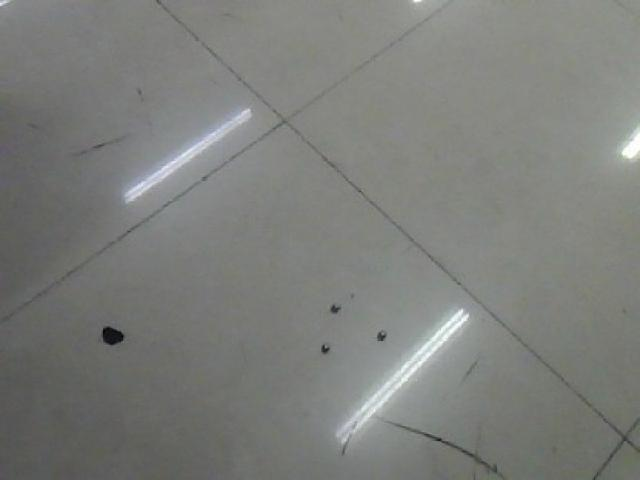steel-ball: (320, 296, 349, 318), (306, 332, 331, 357), (369, 325, 391, 349)
